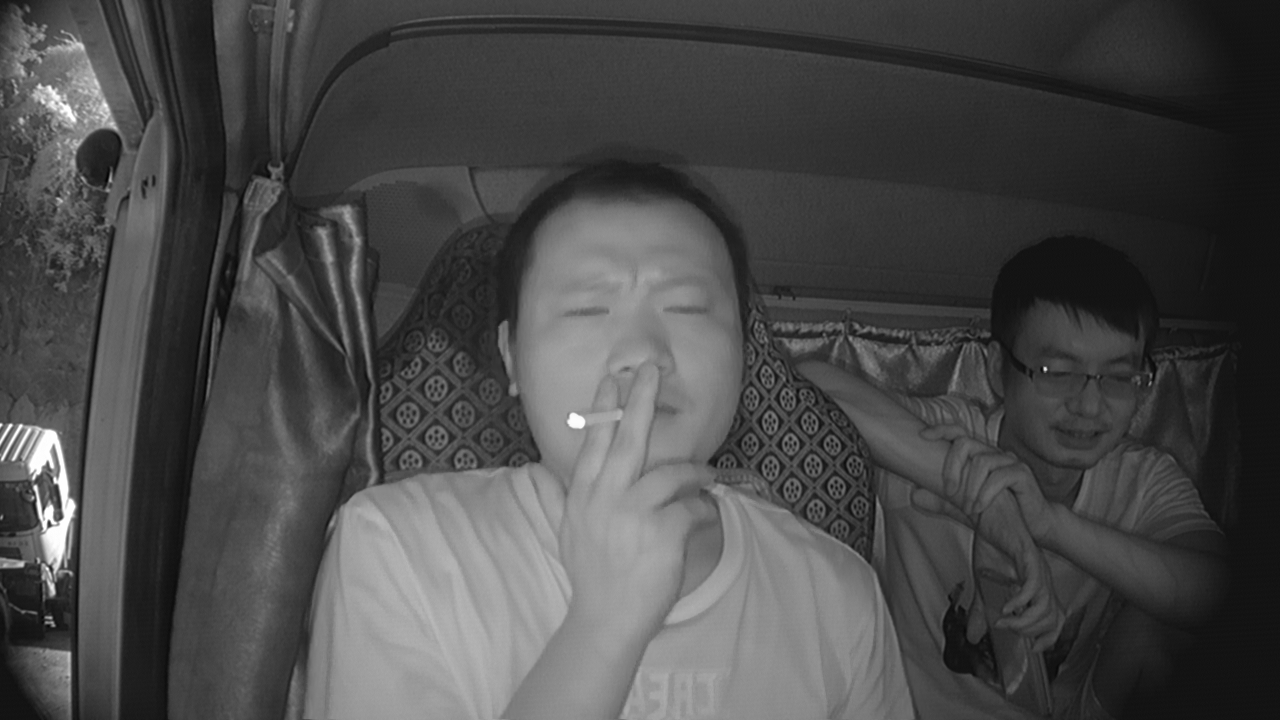hand: (555, 381, 703, 547)
